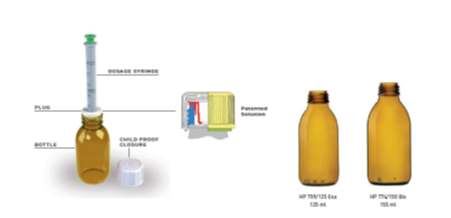glass_bottleww: (40, 25, 167, 207), (280, 41, 353, 217), (353, 42, 421, 218)
